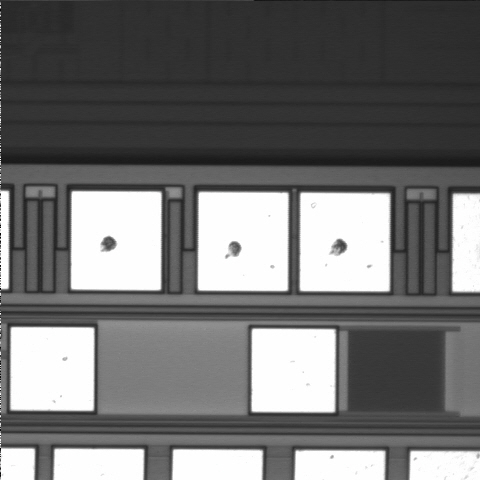pad: (71, 191, 161, 290), (198, 192, 288, 291), (300, 193, 390, 291), (11, 327, 94, 411), (252, 329, 335, 412)
